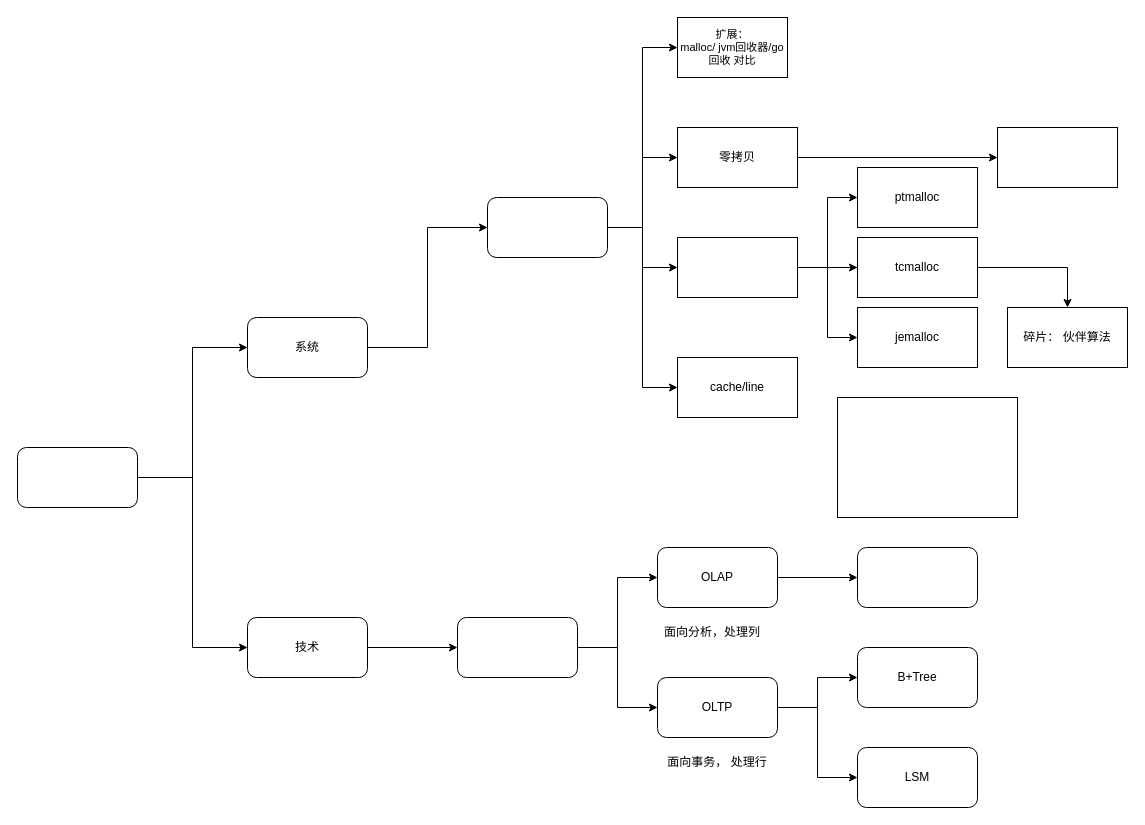
This 1145x825 diagram has some shape labels left out. The centre of each missing label's shape, as x and y in pixels:
1.cache/line 和 memory的对齐 2. cache/line 如何不失效 3. 避免不同线程使用同一个cache-line的情况: point (927, 457)
allocator: point (737, 267)
hbase/hive/clickhouse: point (917, 577)
io: point (547, 227)
mmap sendfile splice: point (1057, 157)
存储: point (517, 647)
总结: point (77, 477)
